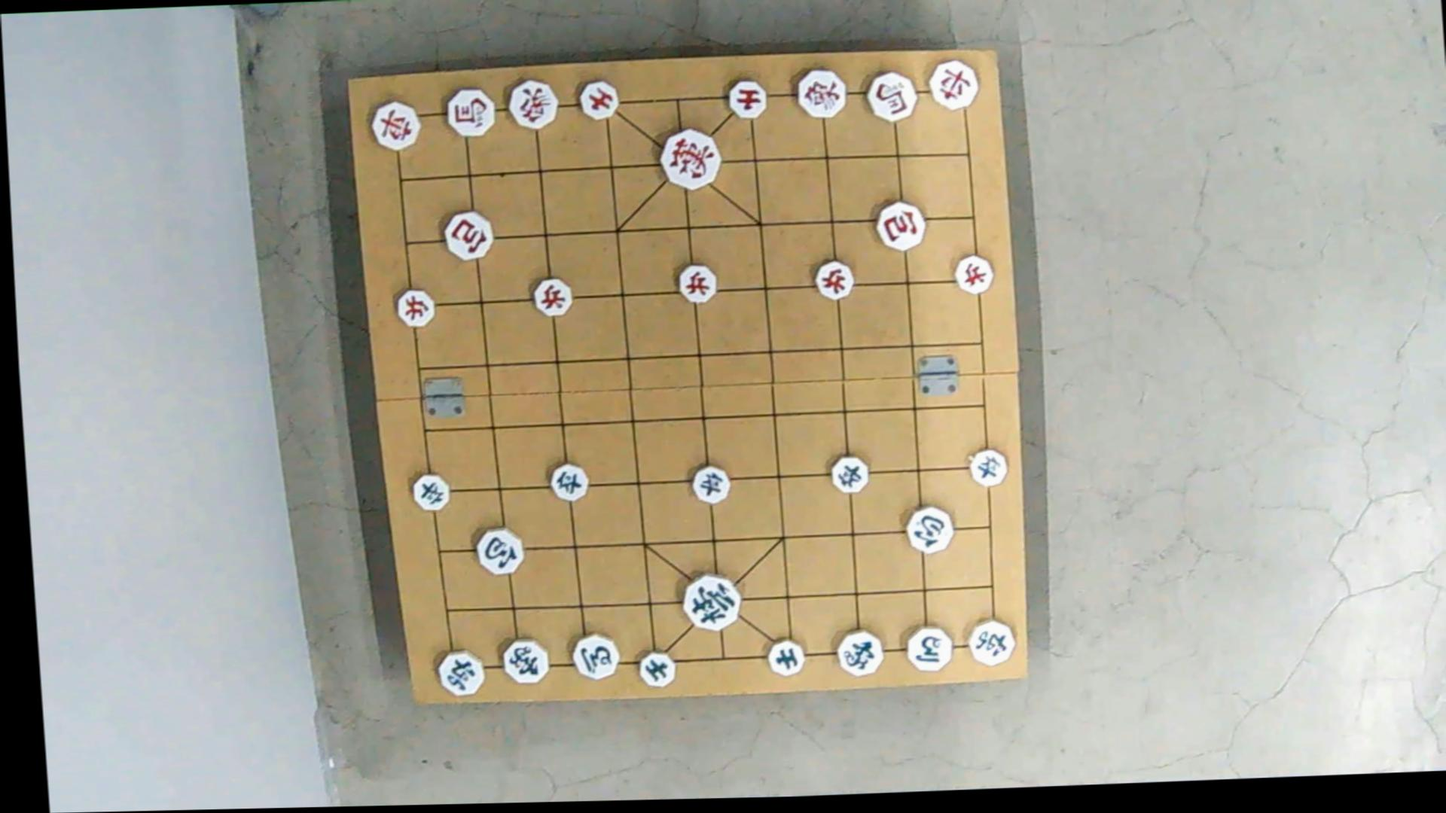cha_green: (968, 620, 1018, 667), (433, 648, 482, 693)
cha_red: (926, 54, 981, 109), (368, 99, 419, 146)
jol_green: (691, 463, 733, 501), (826, 456, 869, 493), (967, 449, 1009, 486), (548, 461, 590, 498), (413, 475, 455, 510)
jol_red: (809, 257, 854, 295), (677, 263, 720, 301), (953, 254, 996, 292), (531, 277, 574, 315), (395, 288, 437, 325)
ma_green: (569, 633, 620, 678), (903, 625, 952, 669)
ma_red: (445, 86, 496, 139), (864, 72, 917, 120)
po_green: (474, 525, 526, 572), (901, 504, 953, 550)
po_red: (440, 209, 492, 257), (874, 200, 926, 247)
sa_green: (764, 638, 805, 673), (639, 650, 679, 685)
sa_red: (725, 79, 767, 117), (578, 81, 621, 118)
sang_green: (831, 626, 883, 673), (501, 640, 550, 684)
sang_red: (794, 66, 850, 121), (505, 78, 558, 130)
wang_green: (682, 574, 744, 629)
wang_red: (657, 129, 721, 187)
